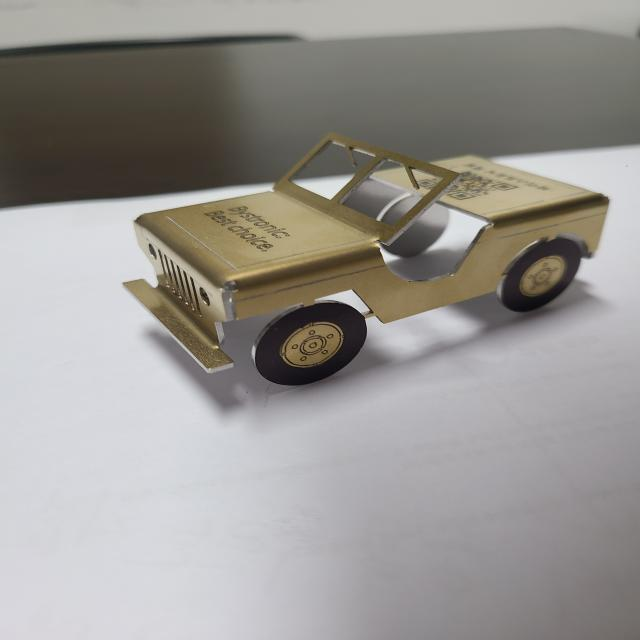tire: (254, 300, 368, 384), (500, 238, 581, 312)
